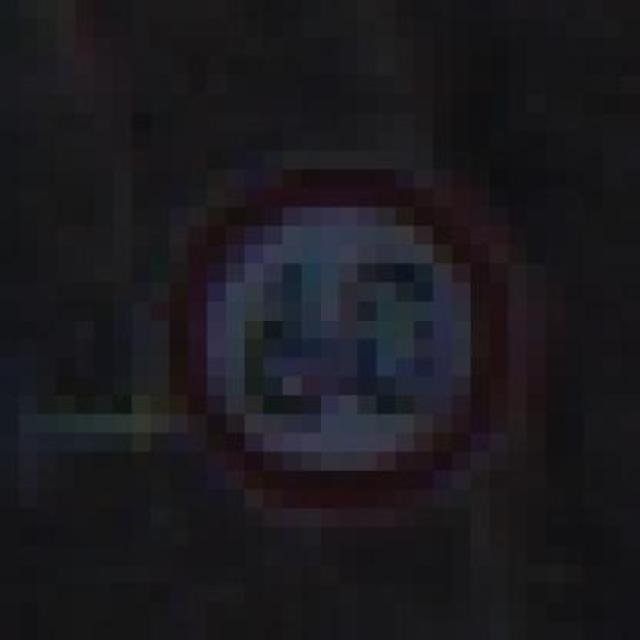forb_speed_over_60: (174, 168, 508, 503)
